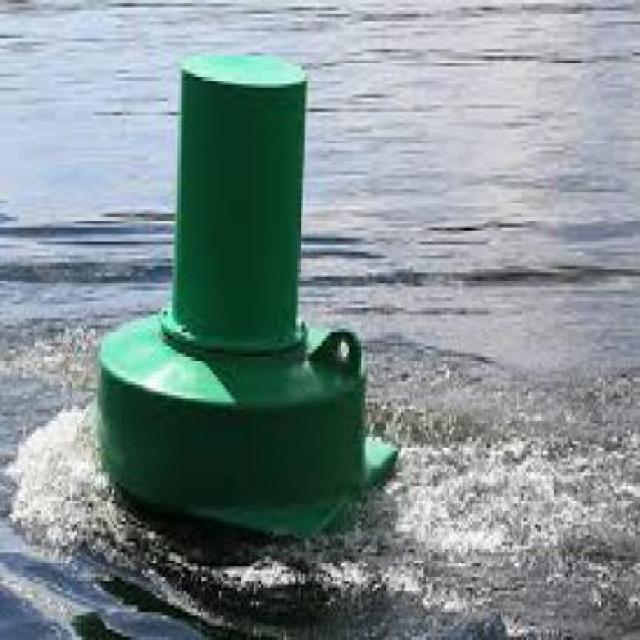buoy: (92, 40, 413, 547)
